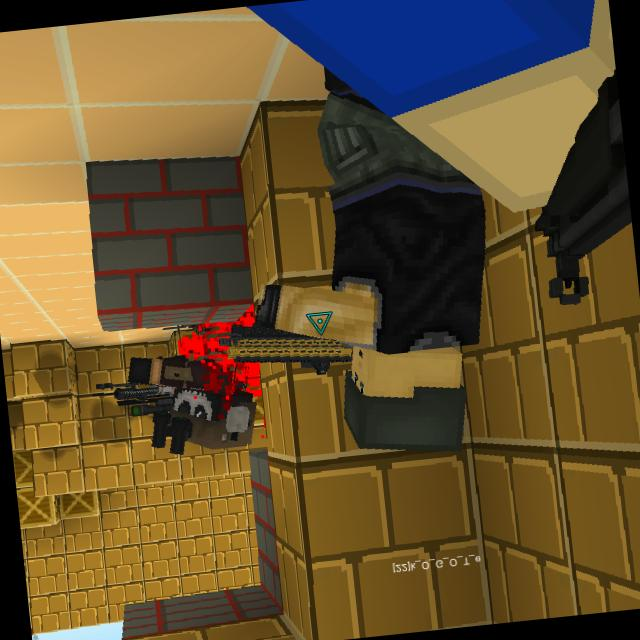enemy: (118, 320, 265, 462)
